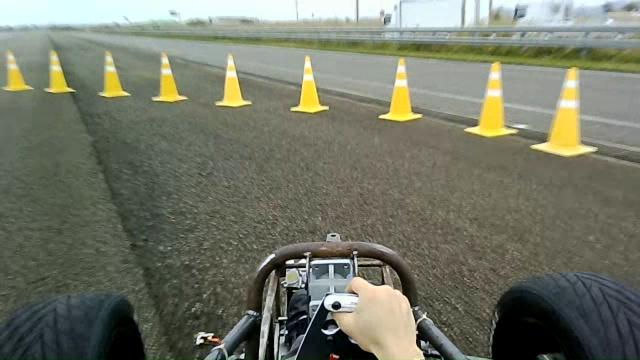blue cone: (280, 289, 310, 358), (323, 292, 358, 313)
yellow cone: (530, 66, 598, 157), (464, 60, 519, 138), (378, 56, 423, 122), (290, 55, 330, 114), (214, 53, 252, 107), (151, 51, 188, 103), (97, 50, 131, 98), (43, 48, 76, 94), (2, 49, 34, 91)
